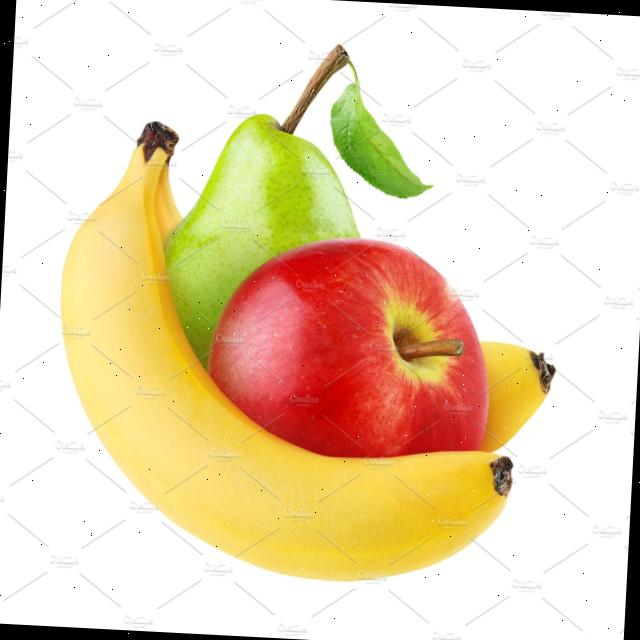Apel: (202, 230, 498, 466), (156, 108, 367, 380), (472, 340, 557, 457)
Pisang: (46, 114, 560, 592)
